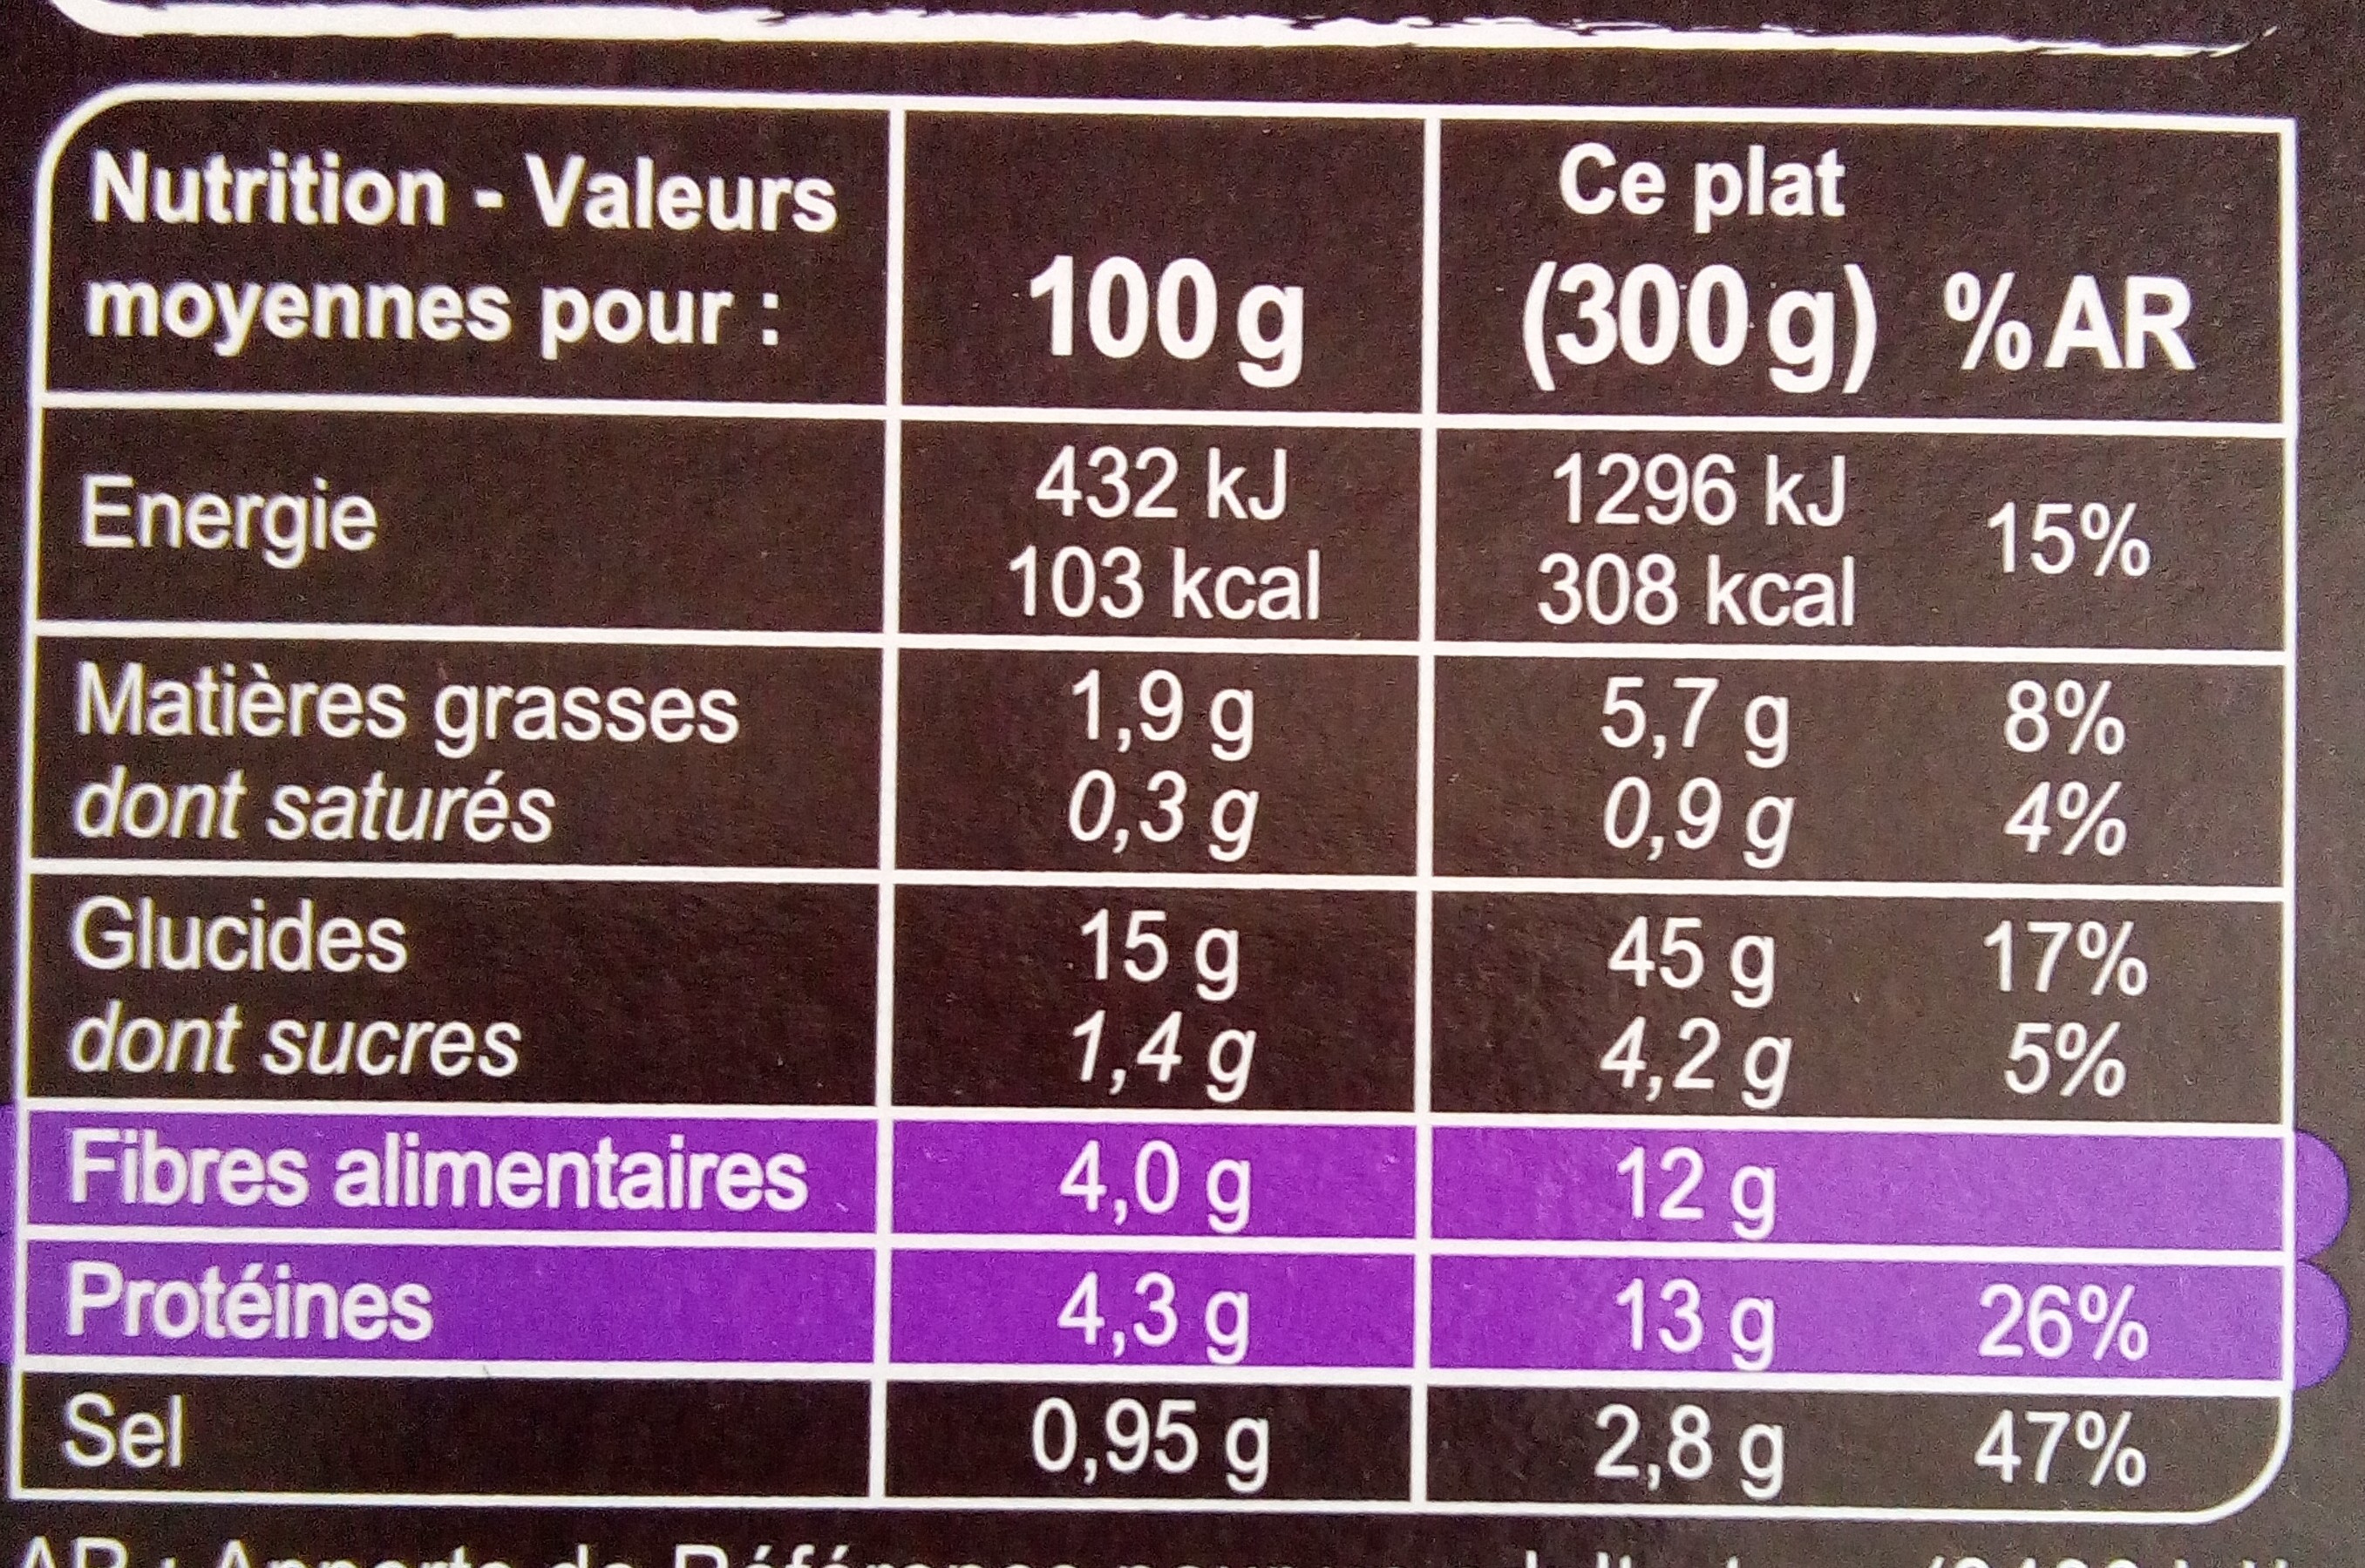column: (65, 149, 846, 1472), (1511, 131, 1871, 1493), (1001, 143, 1311, 1494), (1933, 133, 2186, 1493)
table: (18, 77, 2314, 1536)
